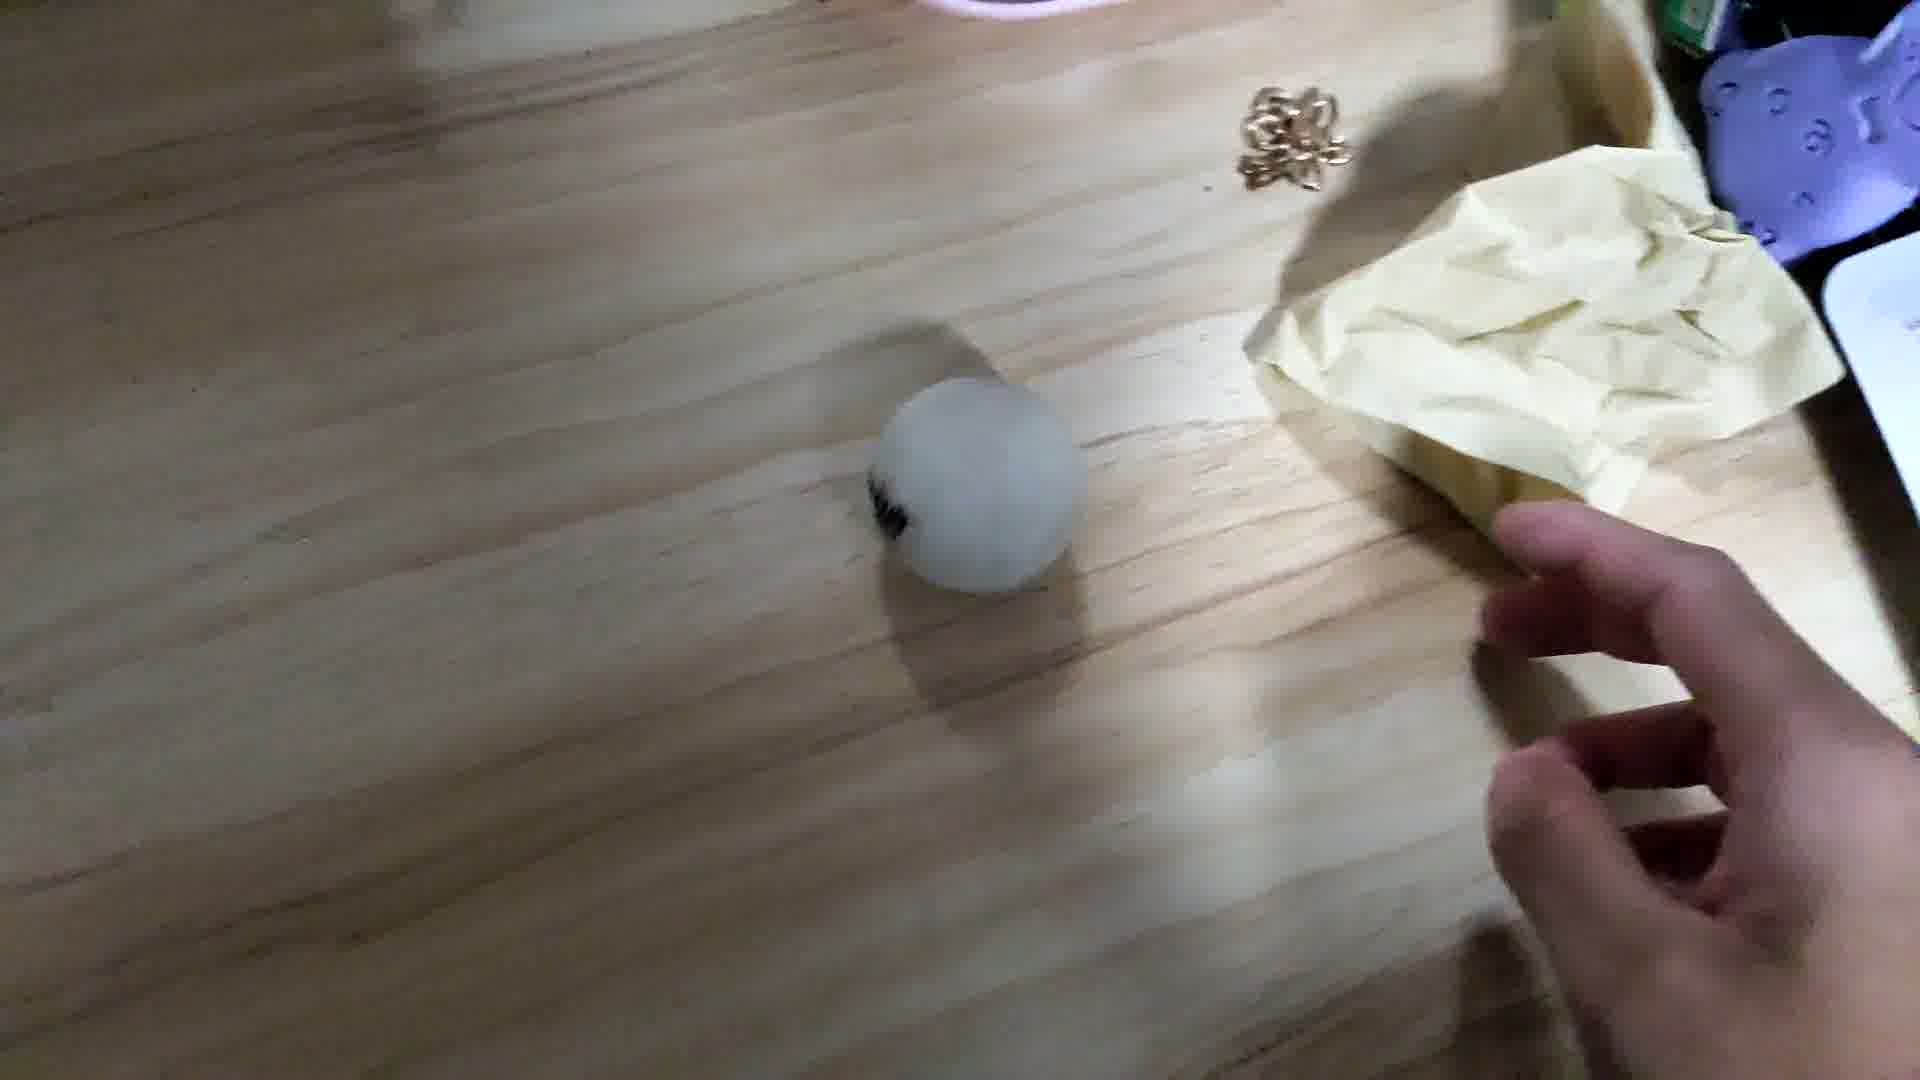Ball: (872, 375, 1096, 595)
